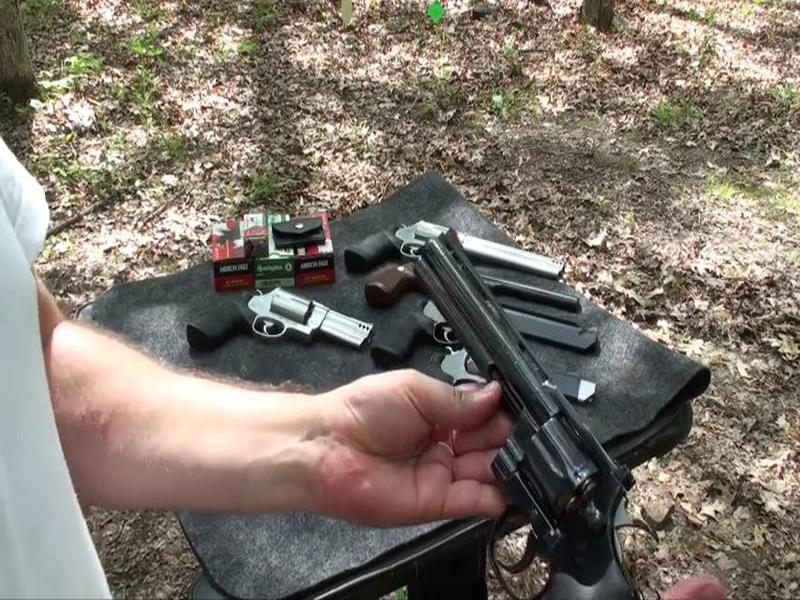Revolver: (376, 226, 663, 600)
